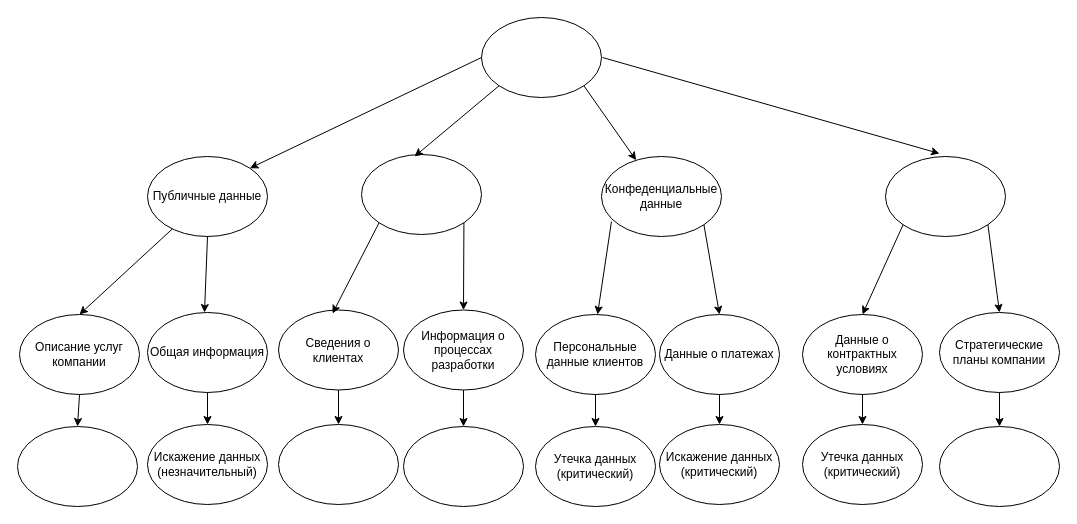
The diagram is 1077 pixels wide and 524 high, and some of its shapes have lost their labels. The shapes that lost their labels are listed below. From the top down, each one's box as (x1, y1, x2, y2) in pixels, then its label:
(480, 16, 602, 98): Безопасность данных
(360, 154, 482, 234): Внутренние данные
(884, 156, 1006, 236): Секретные данные
(16, 426, 138, 506): Утечка данных (незначительный)
(278, 424, 398, 504): Искажение данных (значительный)
(402, 426, 524, 506): Потеря данных (критический)
(938, 426, 1060, 506): Обесценивание данных (критический)
